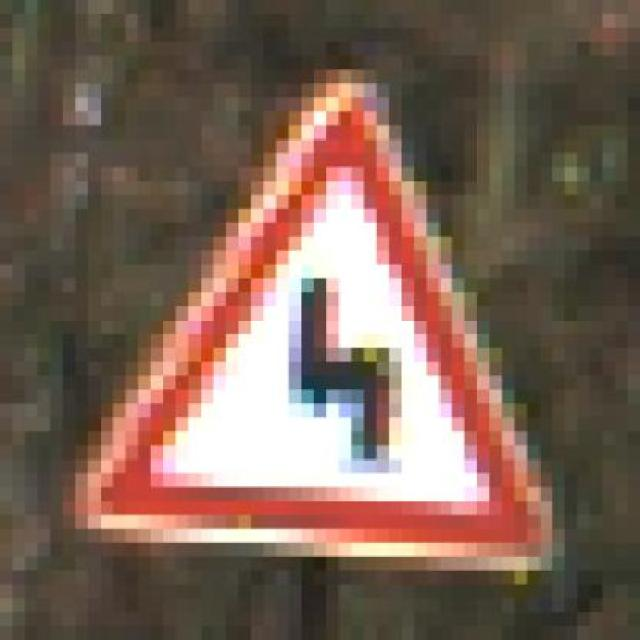Left Zig Zag Traffic: (76, 70, 564, 612)
